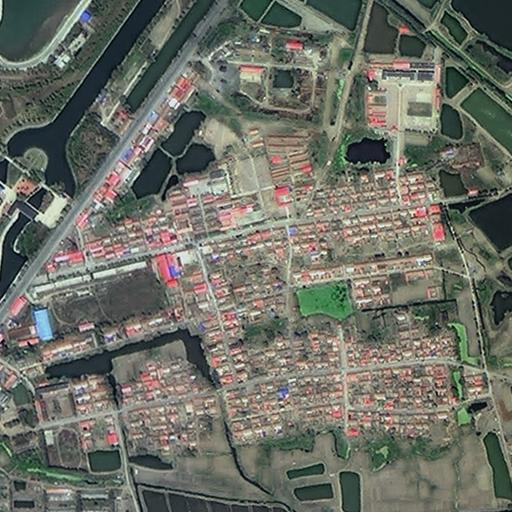school: (362, 58, 442, 135), (32, 379, 82, 474)
